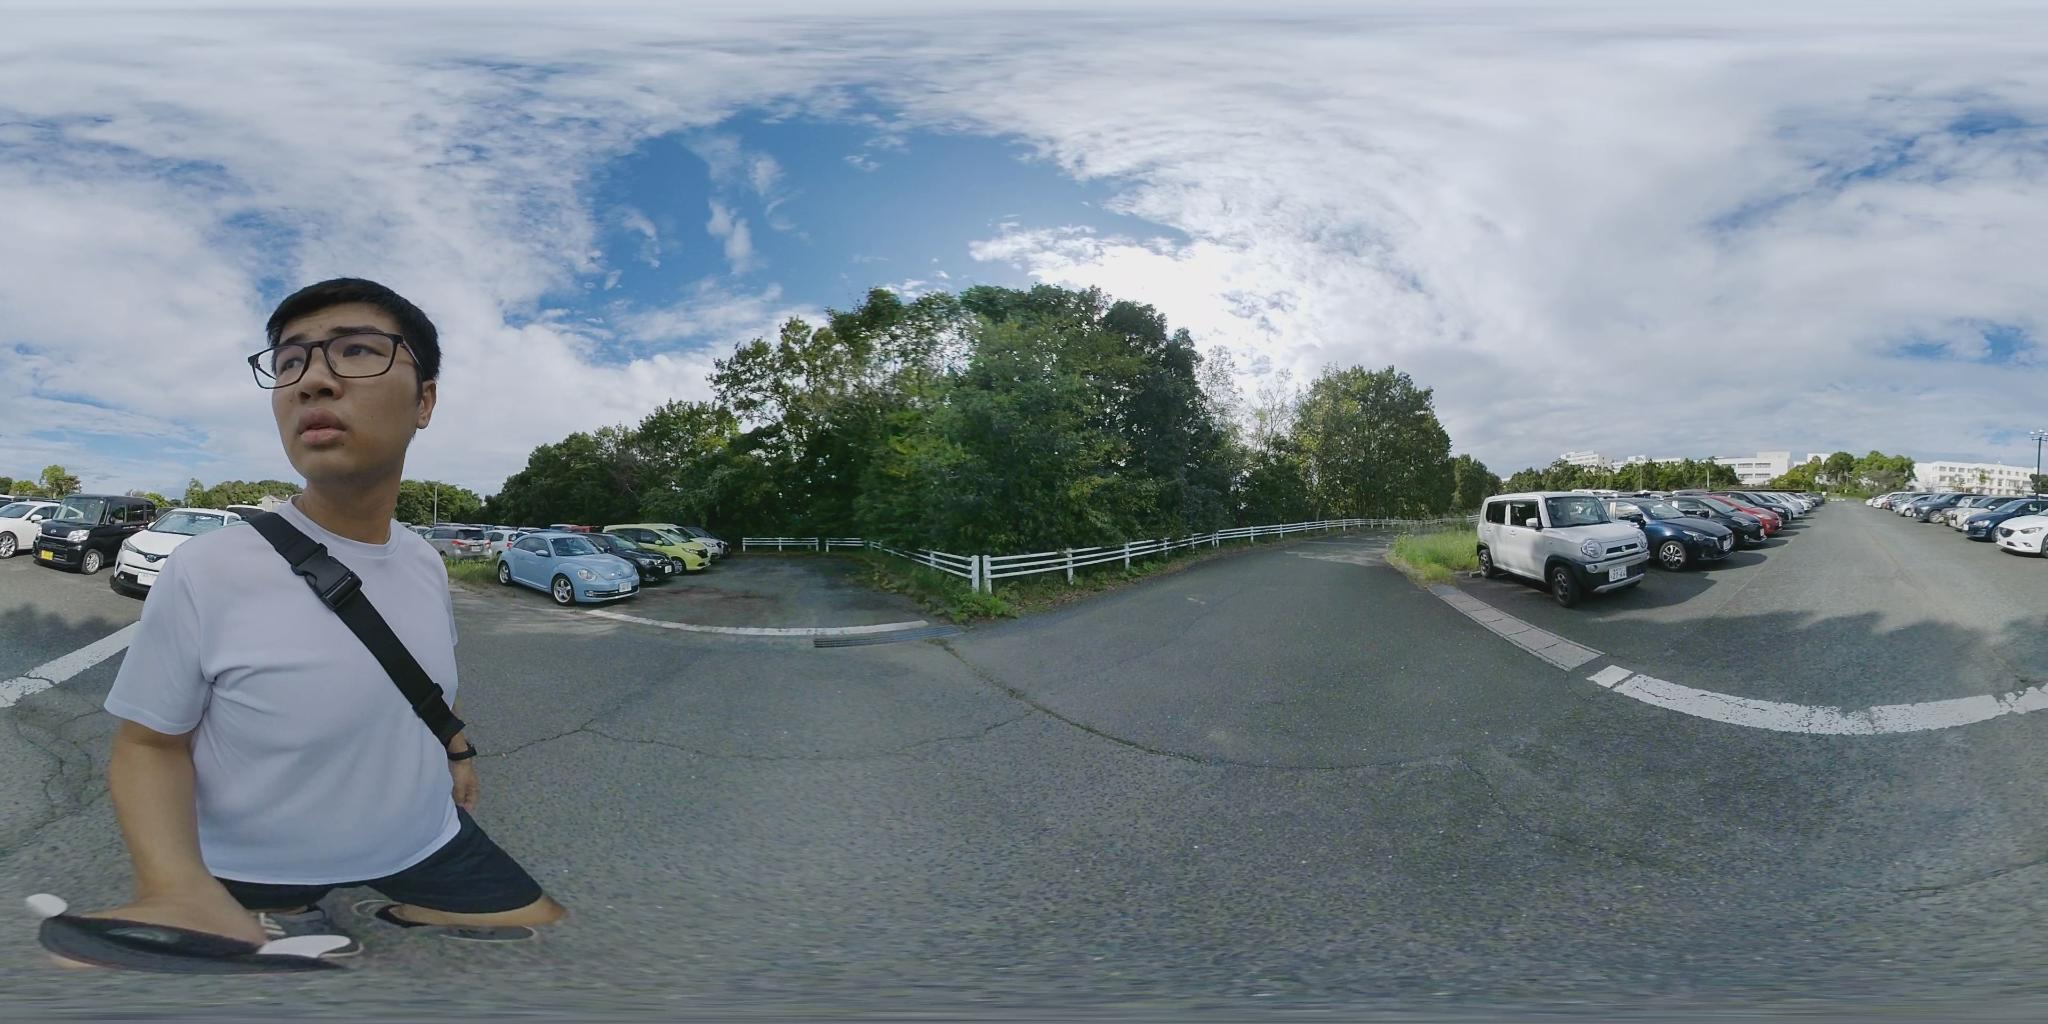car: (1479, 494, 1639, 594), (104, 512, 251, 597), (0, 498, 155, 566), (498, 533, 643, 605), (593, 526, 717, 579), (1954, 492, 2047, 543), (1710, 490, 1796, 537), (1883, 491, 1963, 521)
